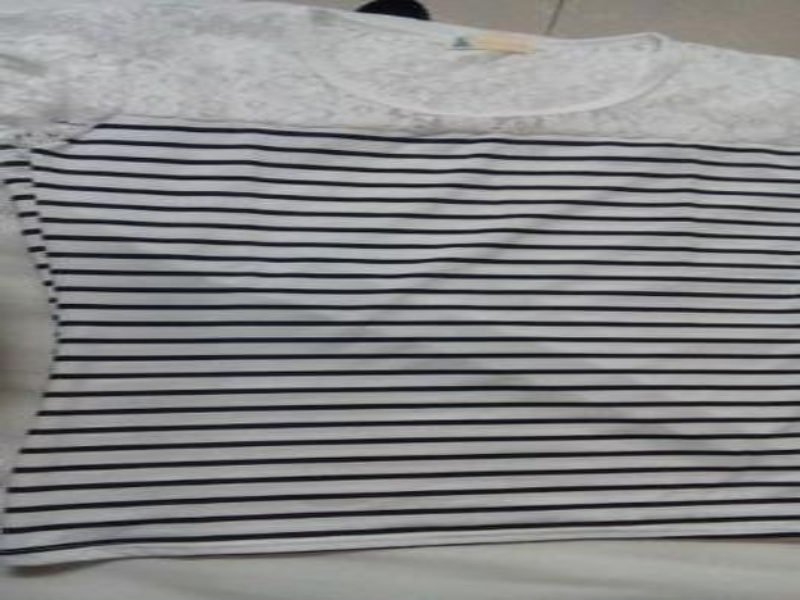short_sleeved_shirt: (0, 0, 797, 582)
